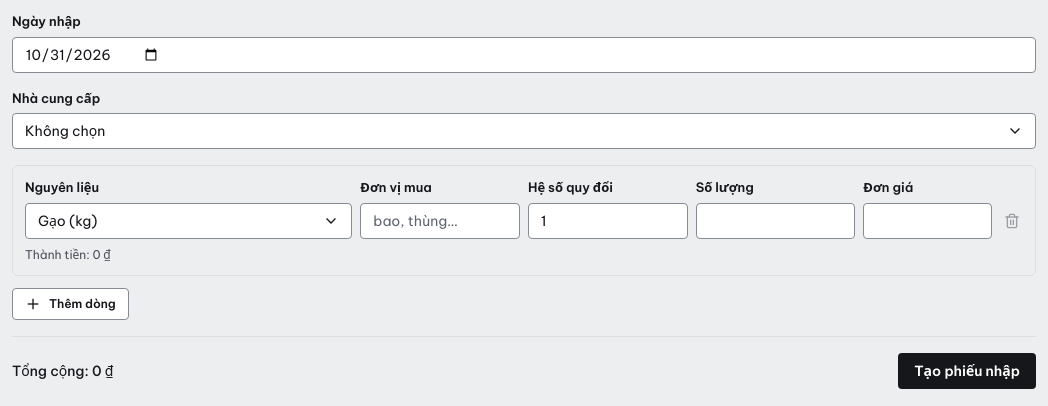
it: ReceiptForm › totals quantity x conversion factor x unit price live
Replace the text in the number field labelled "Hệ số quy đổi" with "5": coordinates (608, 221) [528, 203, 688, 239]
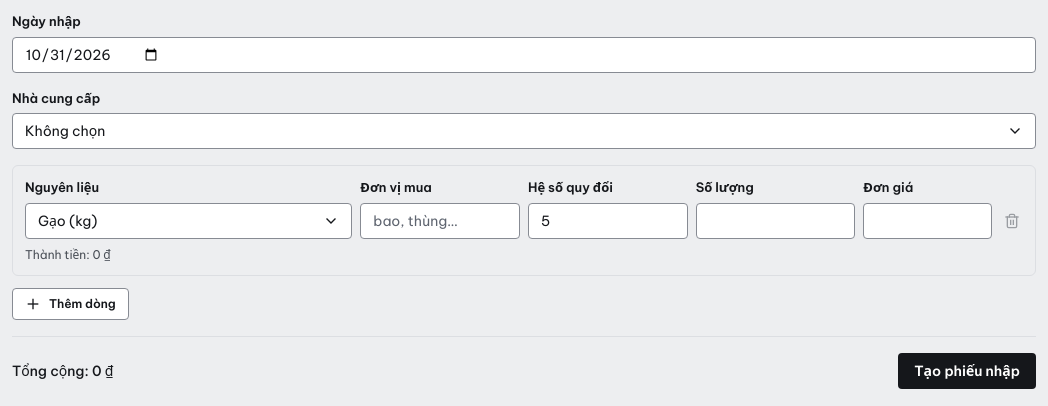
In the number field labelled "Số lượng": coordinates (776, 221) [696, 203, 855, 239], type "3"
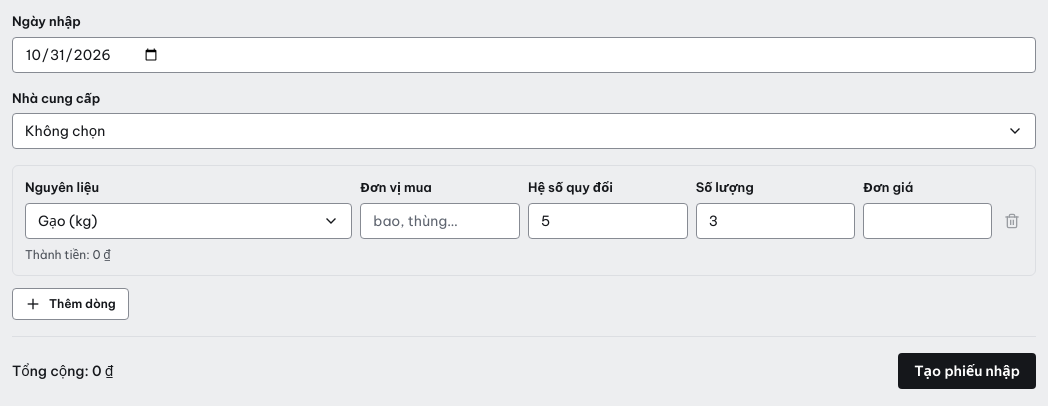
In the number field labelled "Đơn giá": coordinates (928, 221) [863, 203, 992, 239], type "20000"
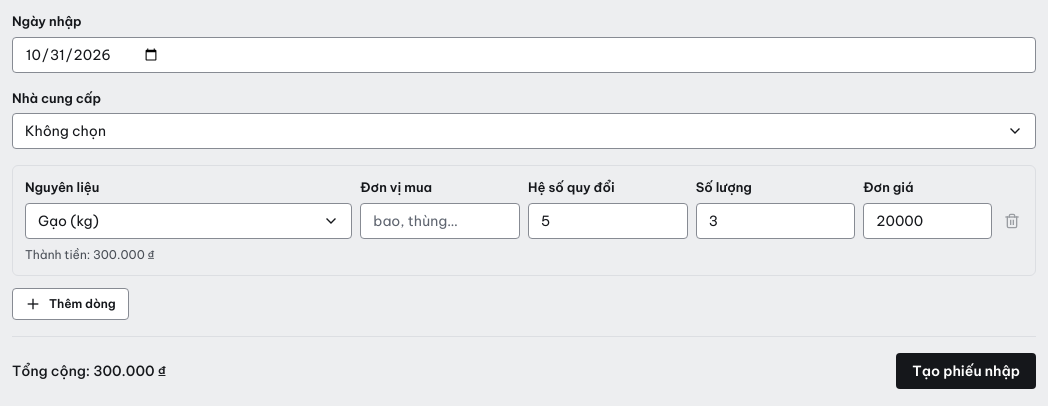
Expected: the text "300.000 ₫" is shown, [93, 362, 166, 380]
